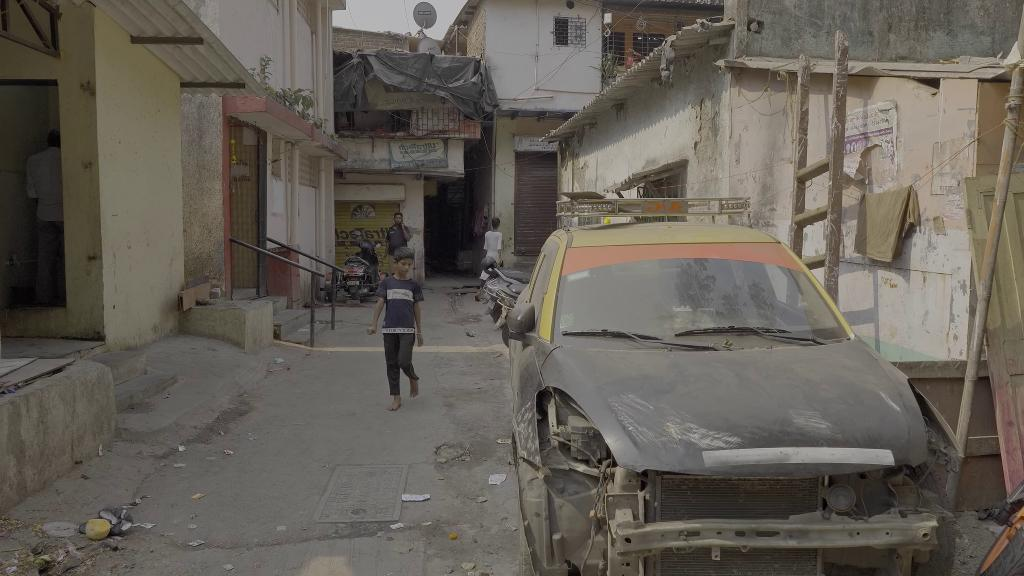garbage: (84, 503, 137, 542), (401, 488, 434, 504), (487, 467, 508, 489)
